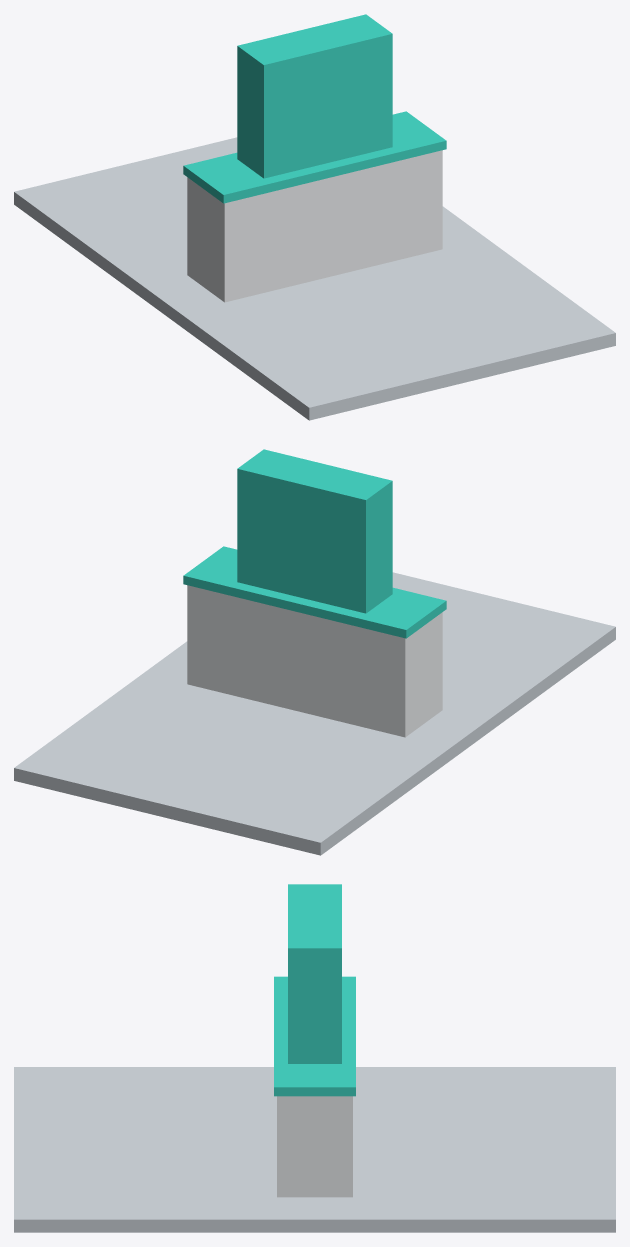
The picture shows the model from 3 angles, top to bottom: view 1: azimuth 30°, elevation 25°; view 2: azimuth 150°, elevation 25°; view 3: azimuth 270°, elevation 25°; orthographic projection.
Visible parts, largest first — view 1: Exhibition Booth Concept; view 2: Exhibition Booth Concept; view 3: Exhibition Booth Concept.
Part boxes in pixels (x1,y1,x2,y2): Exhibition Booth Concept: (14, 14, 615, 420); Exhibition Booth Concept: (14, 449, 615, 855); Exhibition Booth Concept: (14, 884, 615, 1232).
Bounding box in the file's own units: 3 × 2.2 × 5.
